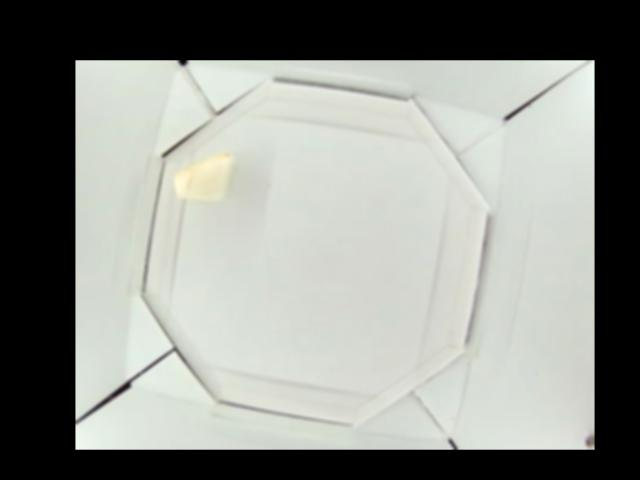Mooli: (173, 151, 233, 201)
